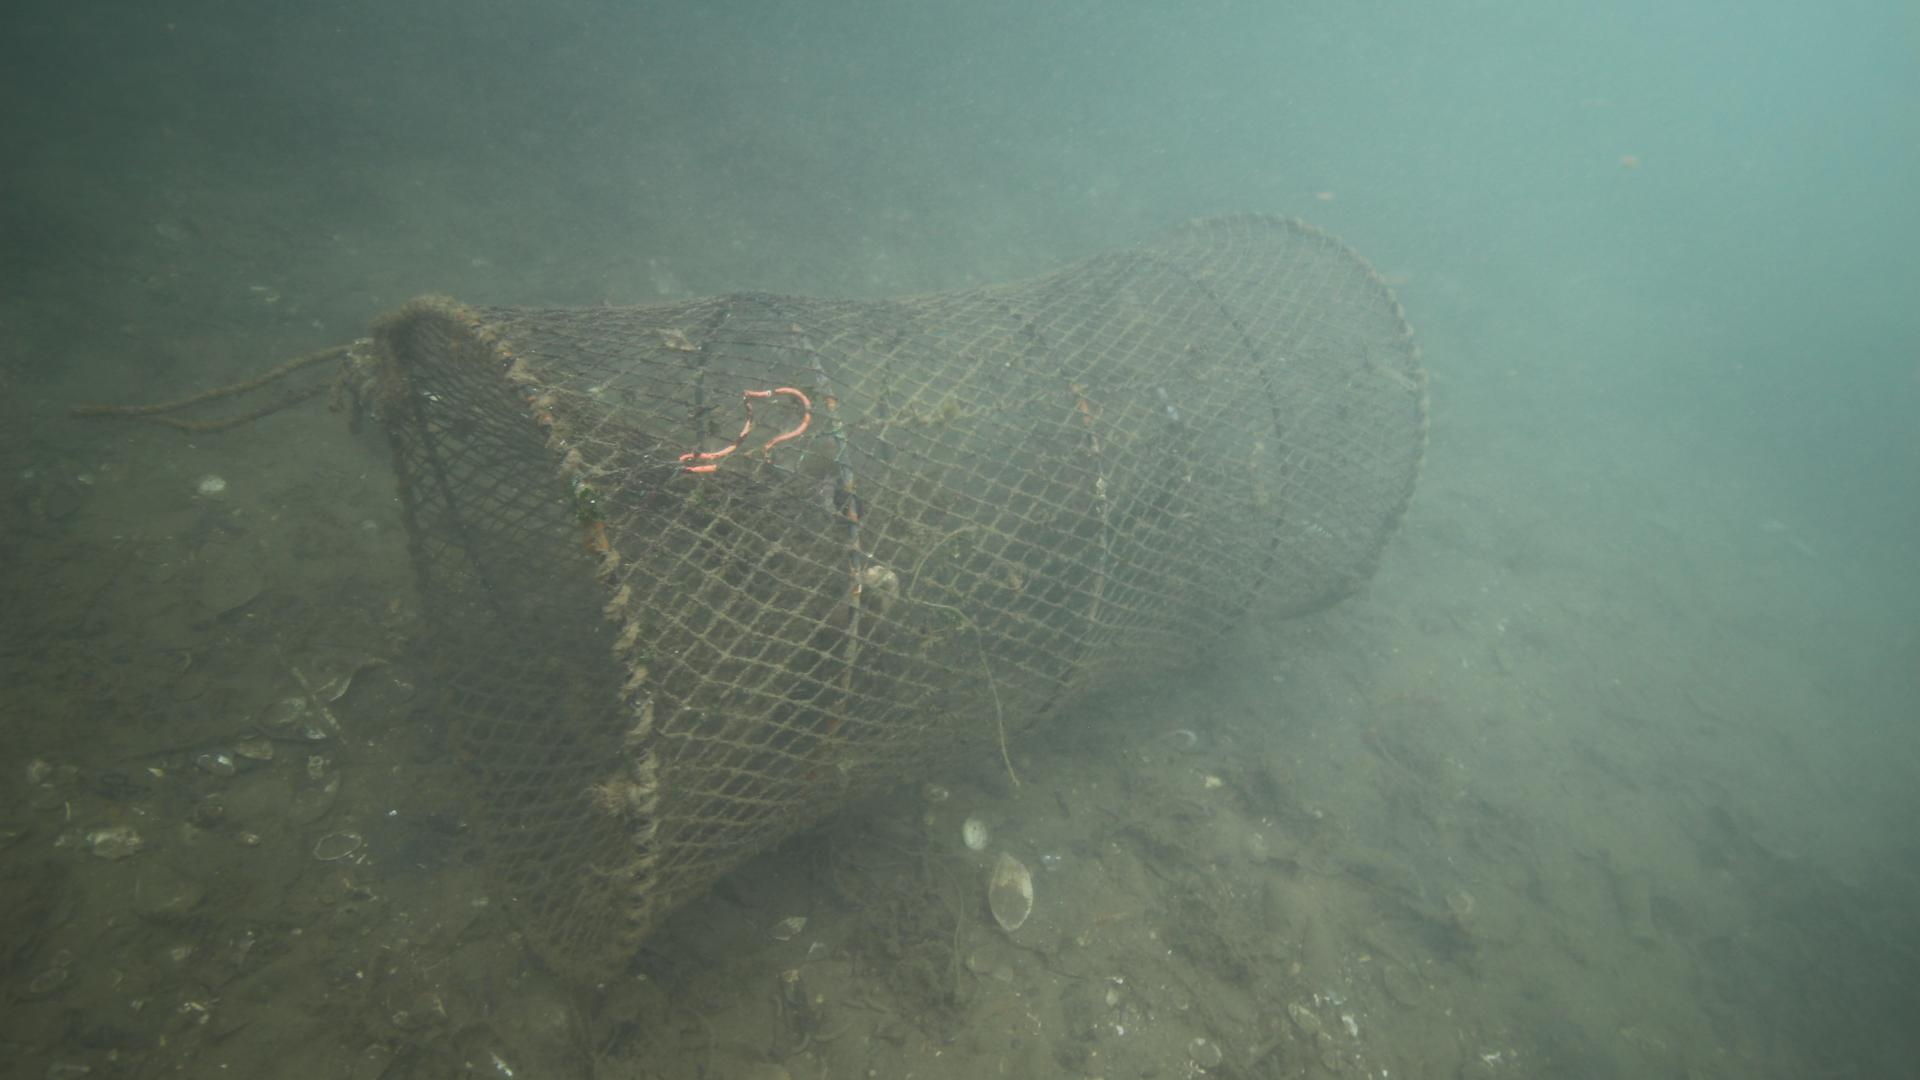bundle of ropes: (65, 340, 394, 447)
spring fish trap: (378, 214, 1427, 985)
